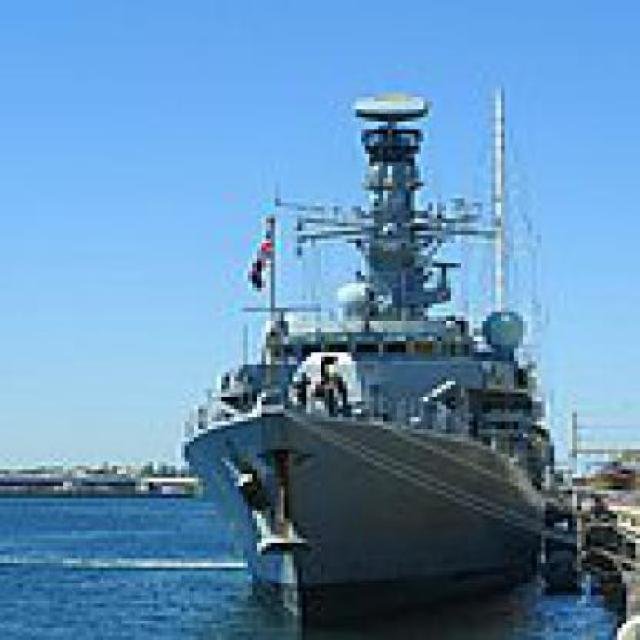warship2: (226, 33, 591, 604)
